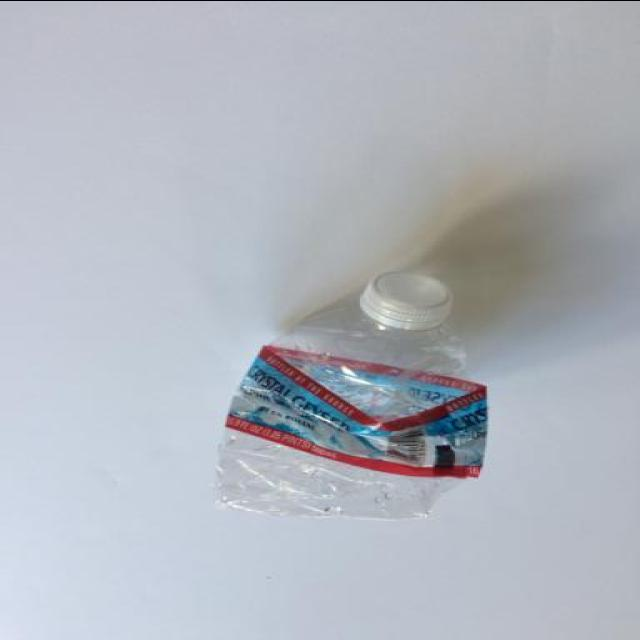litter: (210, 265, 503, 525)
